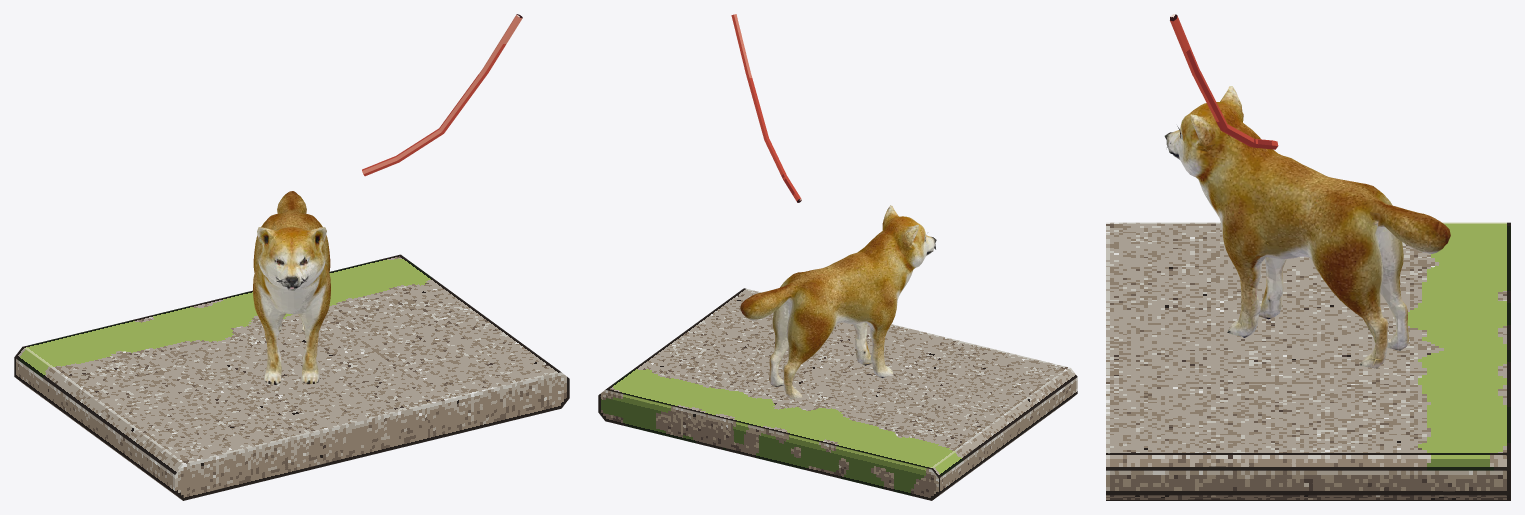
The model's file is shiba.glb.
3 renders of one model, left to right at view 1: azimuth 30°, elevation 25°; view 2: azimuth 150°, elevation 25°; view 3: azimuth 270°, elevation 25°, orthographic. The views are drawn at different scales.
Visible parts, largest first — view 1: base, model_dog, leash; view 2: base, model_dog, leash; view 3: base, model_dog, leash.
Boxes of the visible parts, x1,y1,x2,y2 form: base: [14, 254, 569, 500]; model_dog: [253, 191, 330, 384]; leash: [362, 14, 522, 176]; base: [598, 288, 1077, 500]; model_dog: [740, 205, 936, 399]; leash: [731, 14, 801, 202]; base: [1106, 222, 1510, 500]; model_dog: [1164, 86, 1450, 368]; leash: [1170, 14, 1278, 149].
Size of the model in its own units: 34 by 31.12 by 24.
2 materials, 2 textured.
